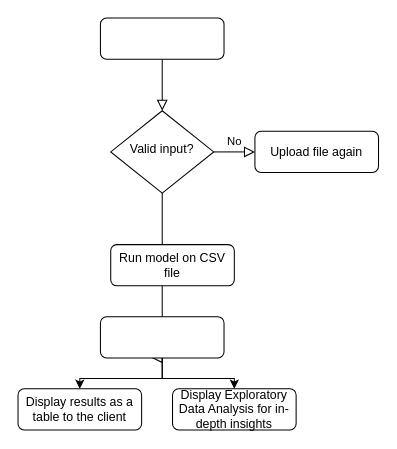
The diagram is 397 pixels wide and 449 high, and some of its shapes have lost their labels. The centre of each missing label's shape, as x and y in pixels:
CSV File Input: point (161, 38)
Get Predictions: point (161, 337)
